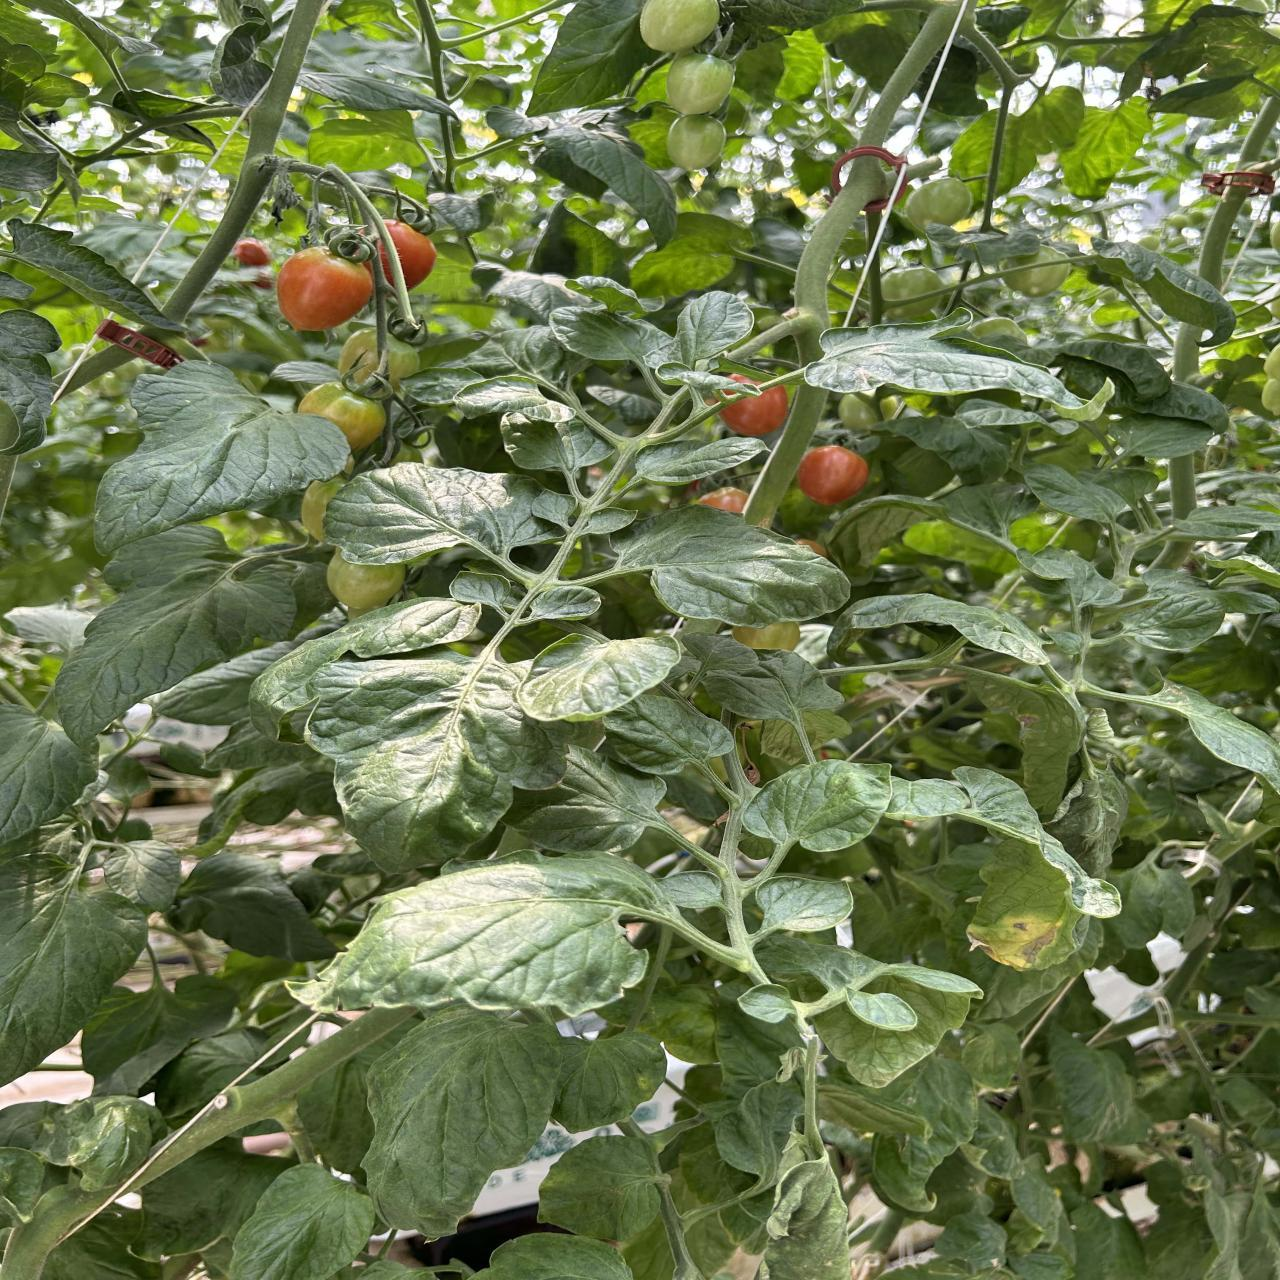Rugose tomato: (327, 550, 406, 618)
